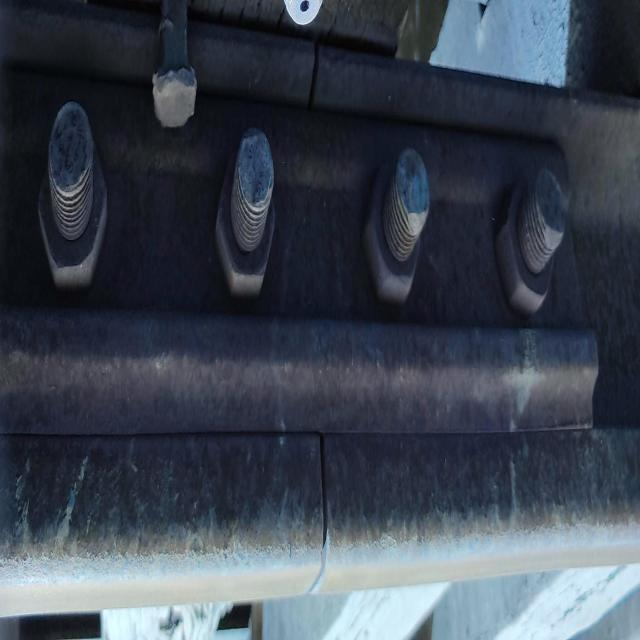Good Fasteners: (152, 0, 197, 128)
Good Joint: (4, 98, 603, 450)
